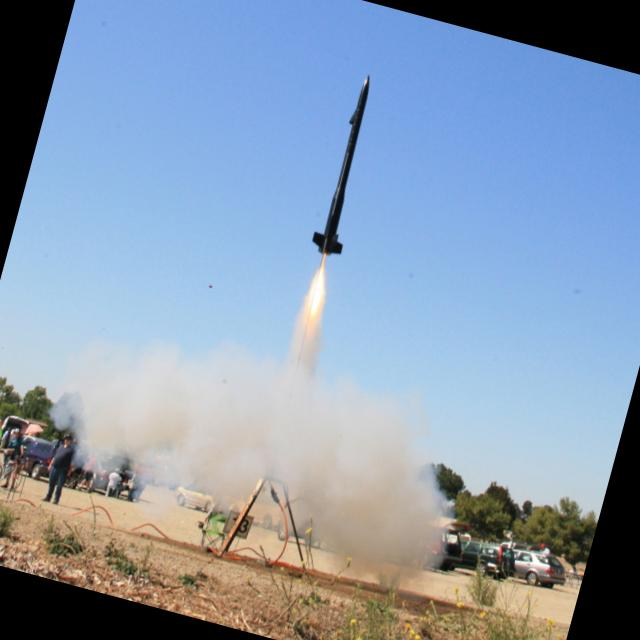rocket: (276, 66, 388, 351)
